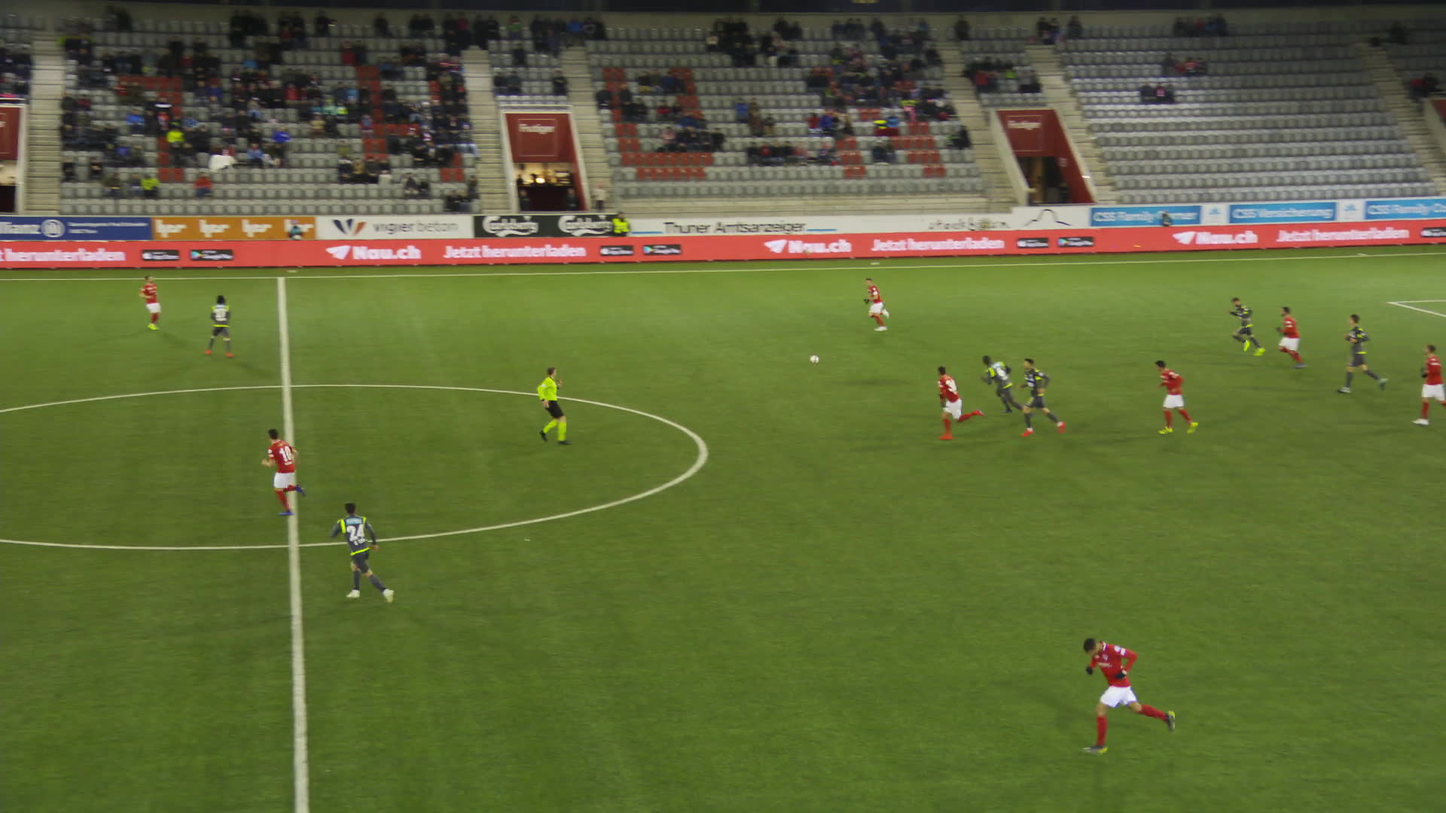ball: (808, 356, 817, 364)
player: (1080, 632, 1170, 757), (328, 501, 391, 603), (262, 428, 312, 516), (929, 364, 984, 440), (1335, 313, 1382, 394), (1014, 357, 1061, 437), (978, 354, 1027, 421), (1150, 360, 1192, 434), (1411, 344, 1445, 426), (1269, 303, 1301, 367), (1225, 297, 1257, 358), (861, 276, 895, 332), (203, 293, 227, 356), (133, 273, 157, 329)
referee: (535, 364, 567, 445)
